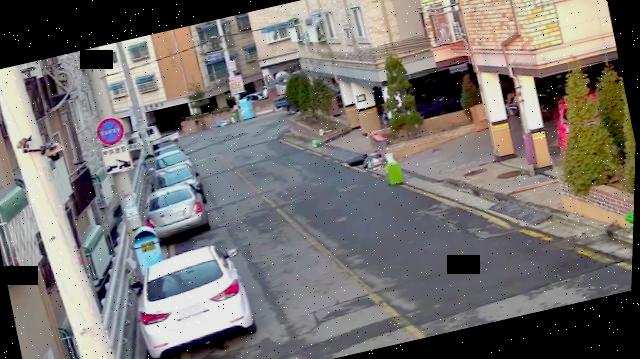bag: (385, 160, 406, 186)
